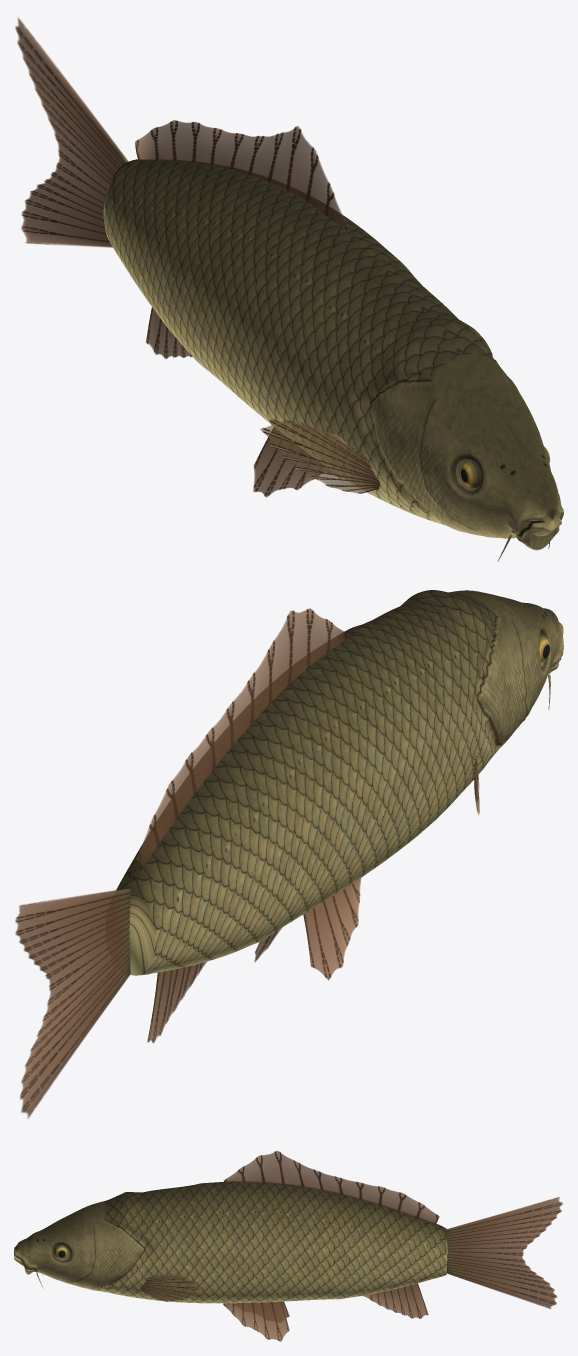
The model's file is sazan.glb.
3 renders of one model, top to bottom at view 1: azimuth 30°, elevation 25°; view 2: azimuth 150°, elevation 25°; view 3: azimuth 270°, elevation 25°, orthographic. The views are drawn at different scales.
Visible parts, largest first — view 1: Body, FinCaudal, FinDorsal1, FinPectoral, FinPelvic, FinAnal; view 2: Body, FinCaudal, FinDorsal1, FinPelvic, FinAnal; view 3: Body, FinCaudal, FinDorsal1, FinPelvic, FinAnal, FinPectoral.
Part boxes in pixels (left/top/right/bottom): Body: left=103, top=159, right=563, bottom=550; FinCaudal: left=15, top=17, right=128, bottom=247; FinDorsal1: left=135, top=120, right=347, bottom=230; FinPectoral: left=260, top=419, right=380, bottom=493; FinPelvic: left=253, top=427, right=341, bottom=497; FinAnal: left=146, top=307, right=192, bottom=358; Body: left=116, top=590, right=563, bottom=975; FinCaudal: left=15, top=888, right=130, bottom=1118; FinDorsal1: left=136, top=608, right=347, bottom=870; FinPelvic: left=254, top=878, right=361, bottom=980; FinAnal: left=147, top=961, right=207, bottom=1043; Body: left=14, top=1182, right=447, bottom=1303; FinCaudal: left=446, top=1197, right=562, bottom=1308; FinDorsal1: left=223, top=1150, right=439, bottom=1224; FinPelvic: left=223, top=1301, right=289, bottom=1341; FinAnal: left=363, top=1283, right=428, bottom=1318; FinPectoral: left=141, top=1273, right=200, bottom=1301.
Size of the model in its own units: 0.2354 by 0.3681 by 0.9995.
Materials: 9 (8 with a texture image).
